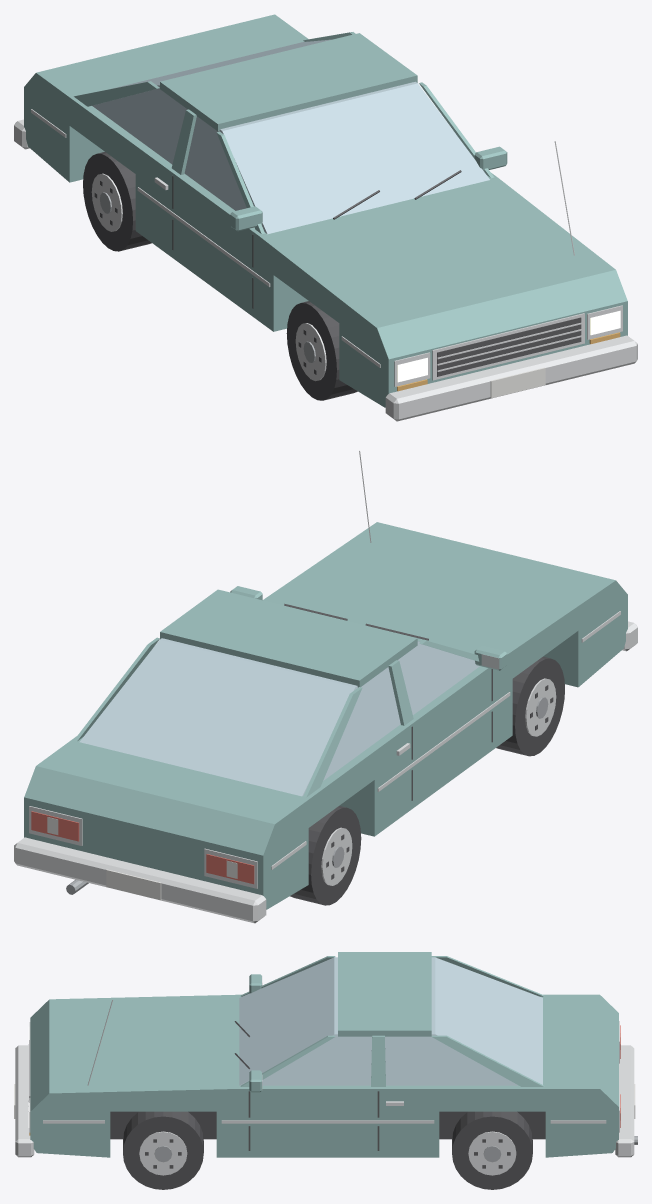
File: car_coupe_t.glb
3 views of the same model, one above another, from view 1: azimuth 30°, elevation 25°; view 2: azimuth 150°, elevation 25°; view 3: azimuth 270°, elevation 25° (orthographic). The views are drawn at different scales.
Visible parts, largest first — view 1: car_coupe_t_car_t, car_coupe_t_glass, car_coupe_t_chrome, car_coupe_t_rubber, car_coupe_t_dark, car_coupe_t_lamp_glass, car_coupe_t_paint_w; view 2: car_coupe_t_car_t, car_coupe_t_glass, car_coupe_t_chrome, car_coupe_t_rubber, car_coupe_t_neon_r, car_coupe_t_paint_w, car_coupe_t_dark; view 3: car_coupe_t_car_t, car_coupe_t_glass, car_coupe_t_rubber, car_coupe_t_chrome, car_coupe_t_dark, car_coupe_t_steel.
Boxes of the visible parts, box(x1,y1,x2,y2) form: car_coupe_t_car_t: box(24, 14, 627, 407); car_coupe_t_glass: box(92, 39, 489, 234); car_coupe_t_chrome: box(14, 109, 637, 421); car_coupe_t_rubber: box(83, 152, 357, 400); car_coupe_t_dark: box(94, 170, 581, 376); car_coupe_t_lamp_glass: box(397, 310, 620, 382); car_coupe_t_paint_w: box(490, 367, 545, 398); car_coupe_t_car_t: box(24, 522, 627, 909); car_coupe_t_glass: box(79, 638, 479, 796); car_coupe_t_chrome: box(14, 450, 637, 923); car_coupe_t_rubber: box(290, 656, 564, 905); car_coupe_t_neon_r: box(31, 811, 254, 884); car_coupe_t_paint_w: box(47, 817, 237, 900); car_coupe_t_dark: box(284, 603, 553, 879); car_coupe_t_car_t: box(30, 952, 618, 1157); car_coupe_t_glass: box(239, 957, 542, 1085); car_coupe_t_rubber: box(110, 1111, 545, 1189); car_coupe_t_chrome: box(15, 1000, 634, 1175); car_coupe_t_dark: box(29, 1021, 510, 1168); car_coupe_t_steel: box(154, 1136, 637, 1162).
Bounding box in the file's own units: 2 × 1.6 × 4.93.
